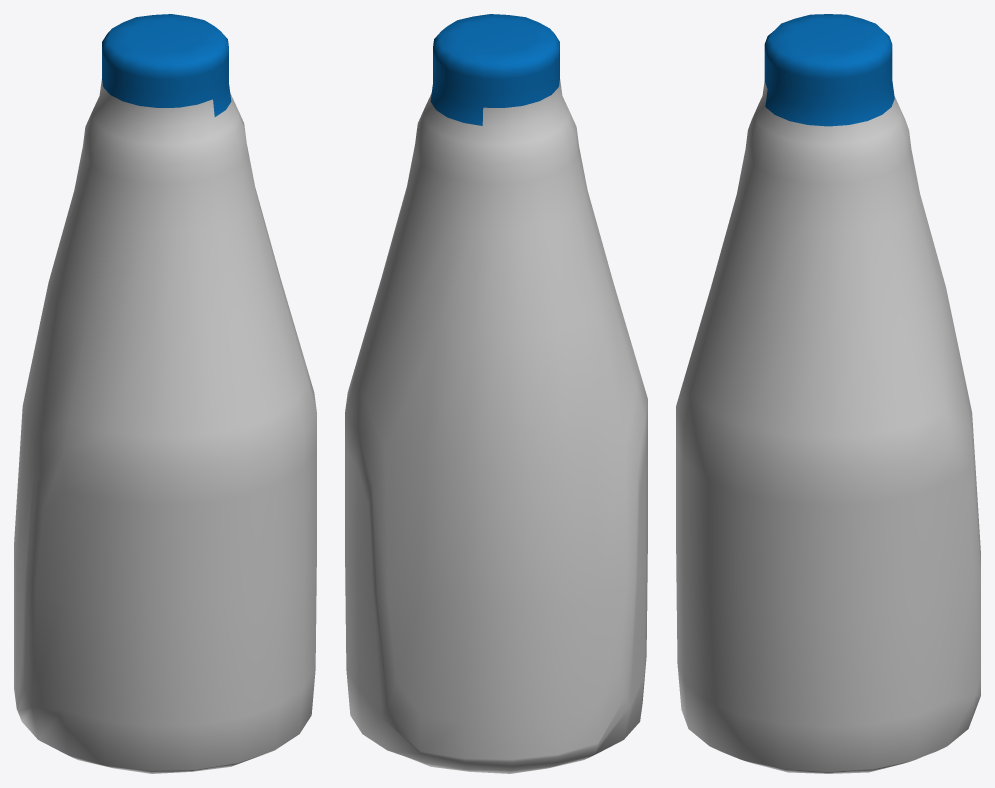
File: milkbottle.fbx
3 views of the same model, side by side, from view 1: azimuth 30°, elevation 25°; view 2: azimuth 150°, elevation 25°; view 3: azimuth 270°, elevation 25° (orthographic).
Parts seen in each view (by area): view 1: pCylinder1; view 2: pCylinder1; view 3: pCylinder1.
Part boxes in pixels (x1=…): pCylinder1: x1=14, y1=14, x2=316, y2=773; pCylinder1: x1=345, y1=14, x2=647, y2=773; pCylinder1: x1=676, y1=14, x2=980, y2=773.
Size of the model in its own units: 1.95 by 4.73 by 1.9.
